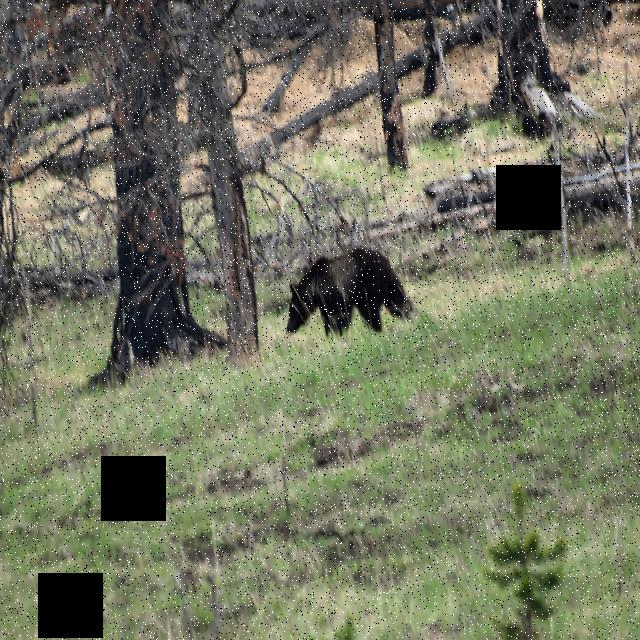Bear: (285, 252, 415, 331)
